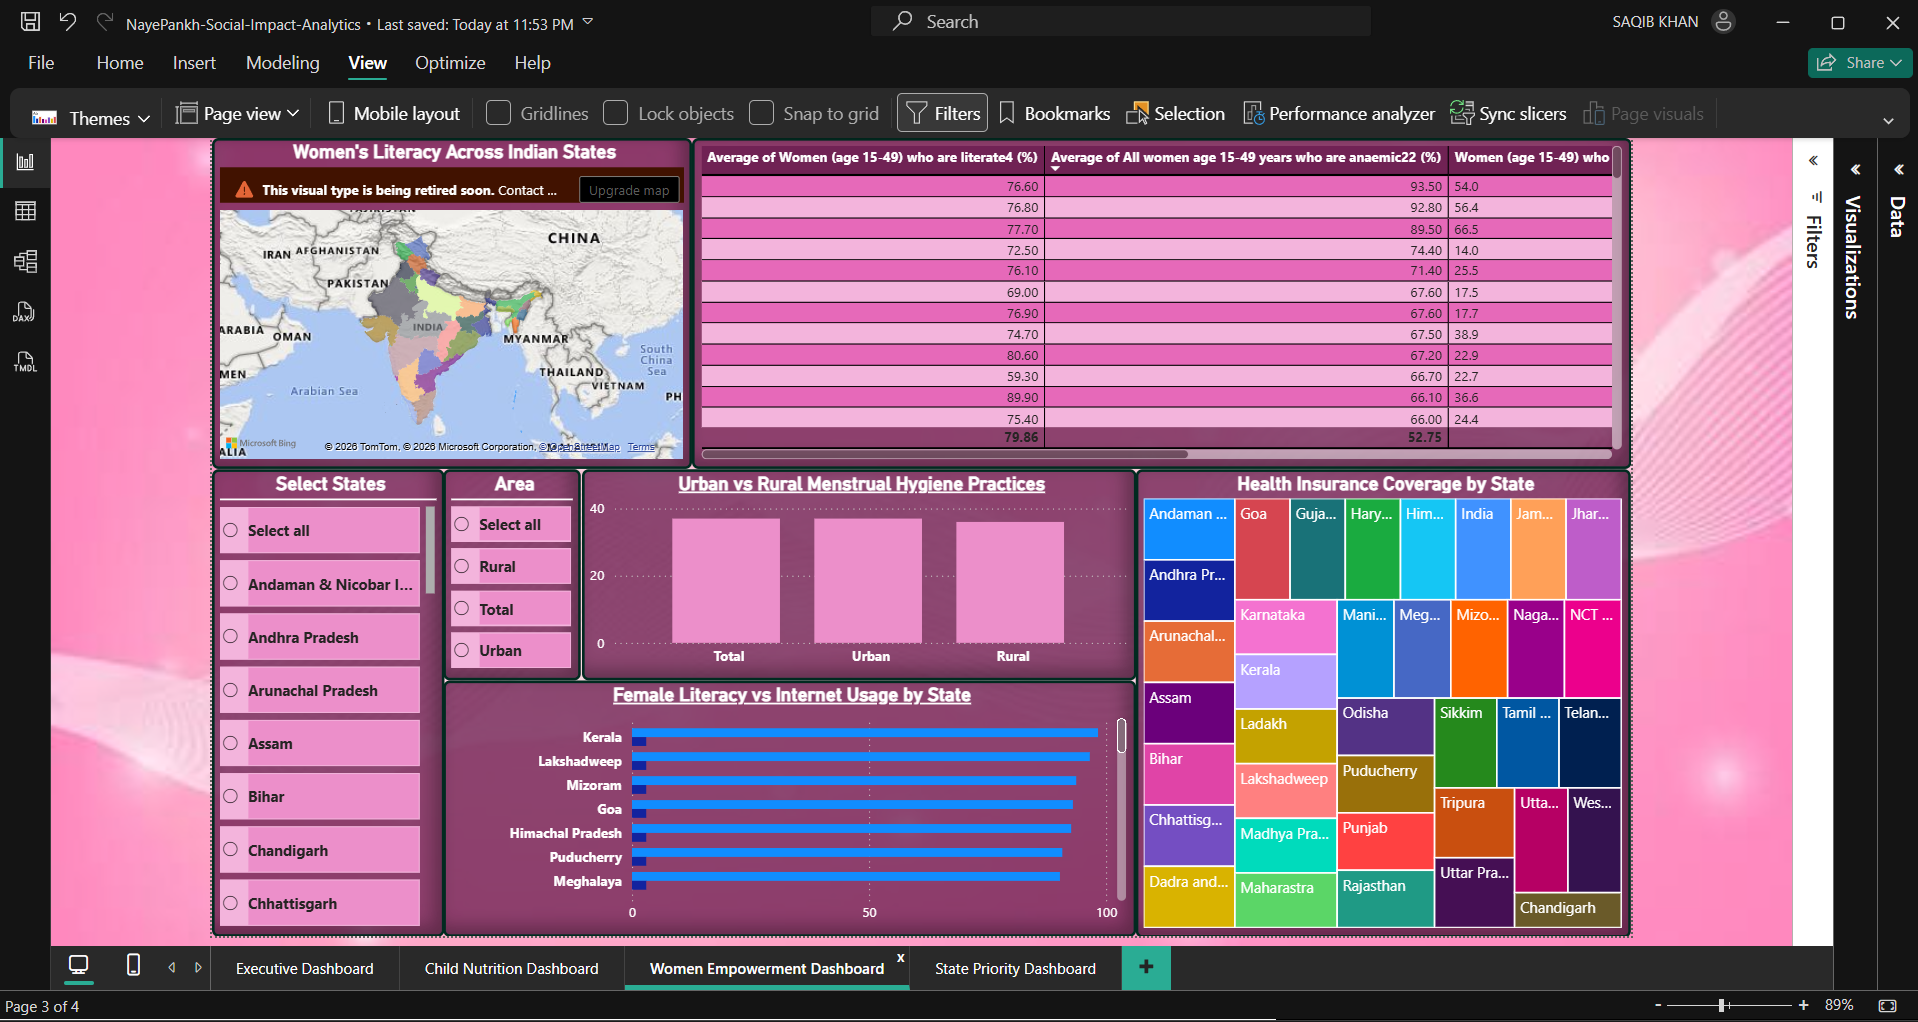

The dashboard page shown, as its layout file describes it:
{"tool":"powerbi","page":{"name":"Women Empowerment Dashboard","canvas":[1280,720],"ordinal":2},"visuals":[{"type":"clusteredBarChart","title":"Female Literacy vs Internet Usage by State","fields":{"Category":["NFHS5.States/UTs"],"Y":["Avg(NFHS5.Women (age 15-49) who are literate4 (%))","CountNonNull(NFHS5.Women (age 15-49)  who have ever used the internet (%))"]},"box":[209,488.9,624.5,231.4],"z":0},{"type":"filledMap","title":"Women''s Literacy Across Indian States","fields":{"Category":["NFHS5.States/UTs"],"Series":["NFHS5.Women (age 15-49) who are literate4 (%)"]},"box":[0,0,432.9,298.6],"z":1000},{"type":"treemap","title":"Health Insurance Coverage by State","fields":{"Group":["NFHS5.States/UTs"],"Values":["CountNonNull(NFHS5.Households with any usual member covered under a health insurance/financing scheme (%))"]},"box":[833.1,298.2,446.6,422.1],"z":3000},{"type":"clusteredColumnChart","title":"Urban vs Rural Menstrual Hygiene Practices","fields":{"Category":["NFHS5.Area"],"Y":["CountNonNull(NFHS5.Women age 15-24 years who use hygienic methods of protection during their menstrual period26 (%))"]},"box":[333.4,298.6,500.1,190.3],"z":4000},{"type":"tableEx","fields":{"Values":["Avg(NFHS5.Women (age 15-49) who are literate4 (%))","Avg(NFHS5.All women age 15-49 years who are anaemic22 (%))","NFHS5.Women (age 15-49)  who have ever used the internet (%)","NFHS5.Households with any usual member covered under a health insurance/financing scheme (%)"]},"box":[432.9,0,847.1,298.6],"z":5000},{"type":"listSlicer","fields":{"Values":["NFHS5.Area"]},"box":[209,298.6,124.4,190.3],"z":6000},{"type":"listSlicer","fields":{"Values":["NFHS5.States/UTs"]},"box":[0,298.2,209.6,421.8],"z":7000}]}

Visuals, with their boxes on the page's 1280x720 design canvas (x1, y1, x2, y2). These are canvas units, not pixel positions in the 1918x1022 screenshot, which may show the page scaled, cropped or inside an application window:
"Female Literacy vs Internet Usage by State" clusteredBarChart: region(209, 489, 834, 720)
"Women''s Literacy Across Indian States" filledMap: region(0, 0, 433, 299)
"Health Insurance Coverage by State" treemap: region(833, 298, 1280, 720)
"Urban vs Rural Menstrual Hygiene Practices" clusteredColumnChart: region(333, 299, 834, 489)
tableEx - Avg(NFHS5.Women (age 15-49) who are literate4 (%)) x Avg(NFHS5.All women age 15-49 years who are anaemic22 (%)): region(433, 0, 1280, 299)
listSlicer - NFHS5.Area: region(209, 299, 333, 489)
listSlicer - NFHS5.States/UTs: region(0, 298, 210, 720)
